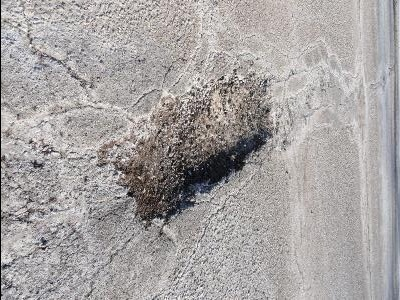pothole: (102, 63, 280, 228)
